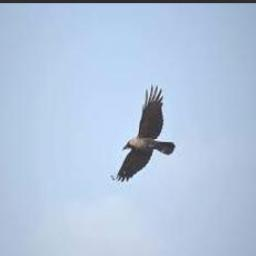Crow: (117, 85, 175, 182)
